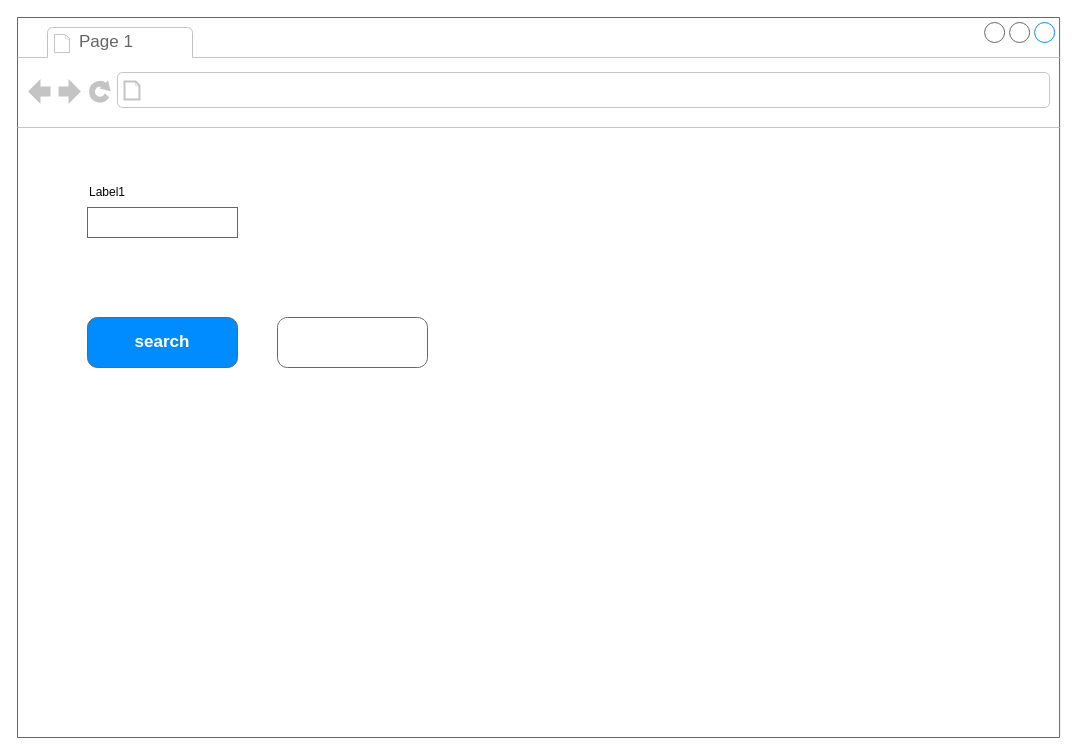
The diagram is 1078 pixels wide and 755 high, and some of its shapes have lost their labels. The centre of each missing label's shape, as x and y in pixels:
"https://www.draw.io" belongs at (272,90).
"Placeholder" belongs at (162,222).
